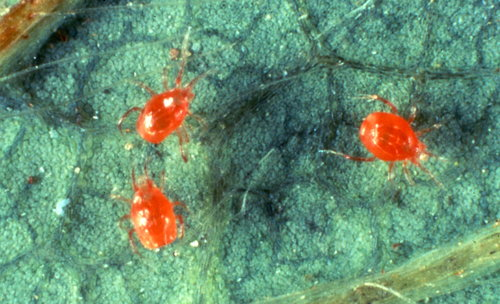Mites: (107, 60, 215, 165), (334, 86, 447, 184), (111, 157, 195, 274)
